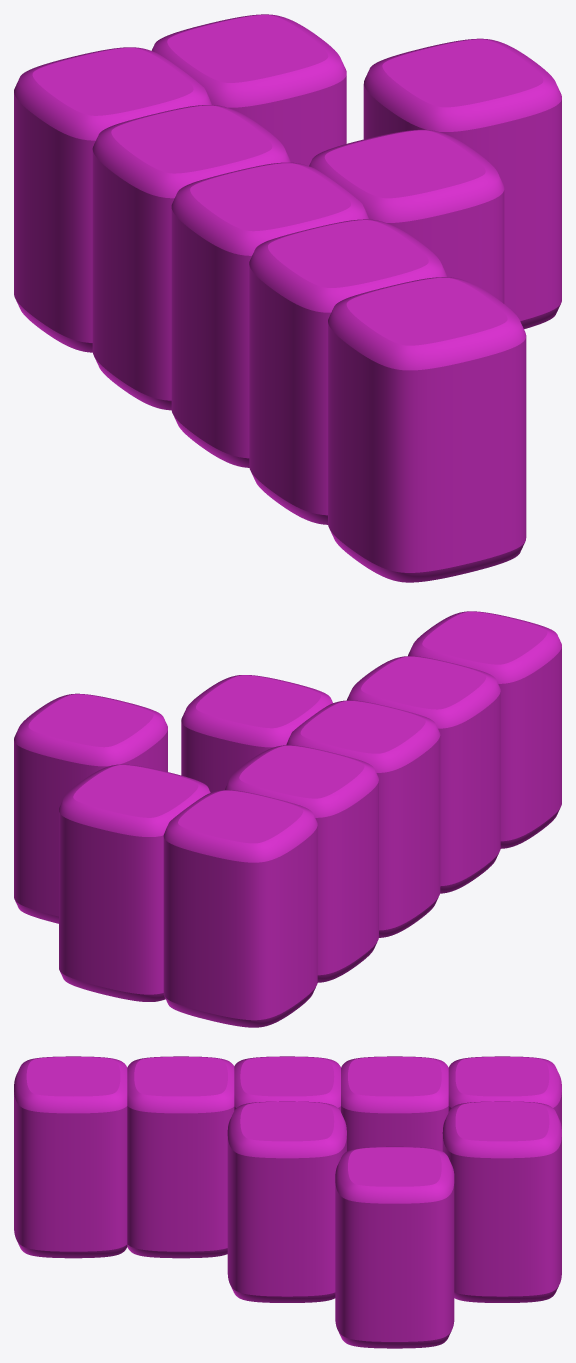
File: Letter_d_Small.fbx
The picture shows the model from 3 angles, top to bottom: view 1: azimuth 30°, elevation 25°; view 2: azimuth 150°, elevation 25°; view 3: azimuth 270°, elevation 25°; orthographic projection. The views are drawn at different scales.
Visible parts, largest first — view 1: Letter_d; view 2: Letter_d; view 3: Letter_d.
Part boxes in pixels (x1=…): Letter_d: x1=14, y1=14, x2=561, y2=582; Letter_d: x1=14, y1=611, x2=561, y2=1027; Letter_d: x1=14, y1=1056, x2=561, y2=1348.
Bounding box in the file's own units: 0.2619 × 0.14 × 0.4311.
